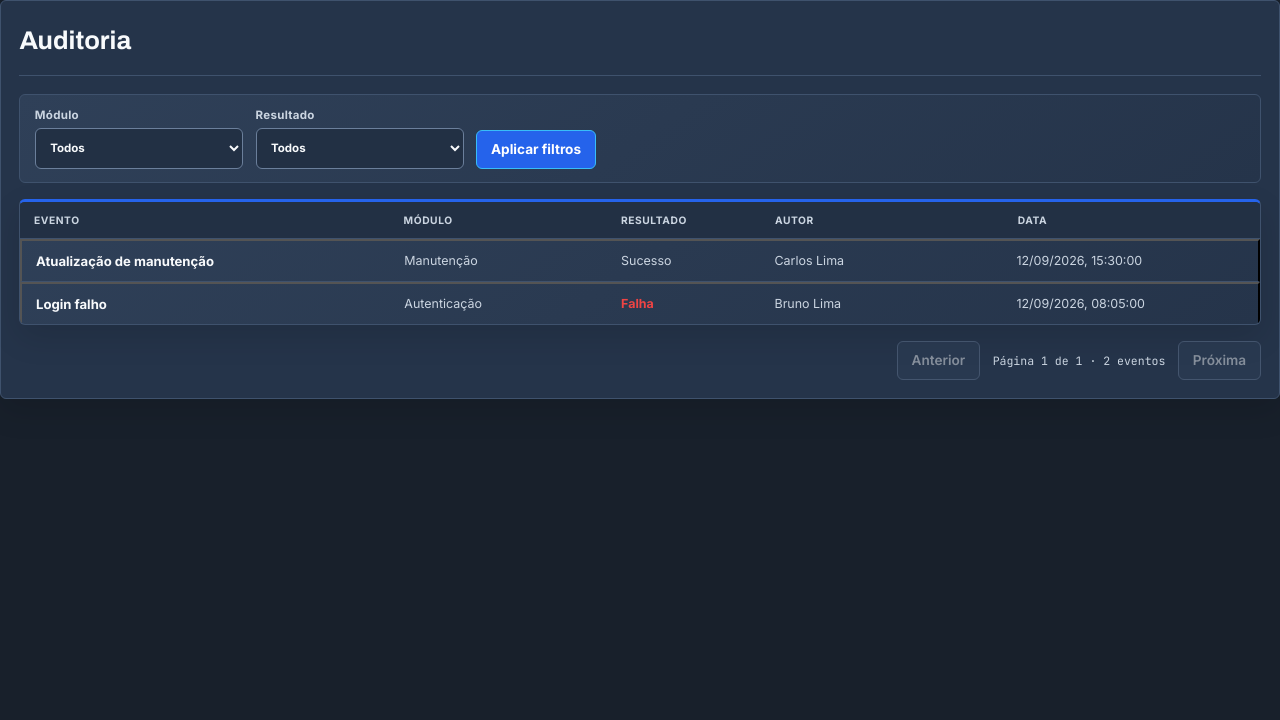
AuditPage › opens event details with before/after
This screenshot has width=1280, height=720.
Click the text "Atualização de manutenção". click: x=125, y=261
box: [36, 253, 214, 269]
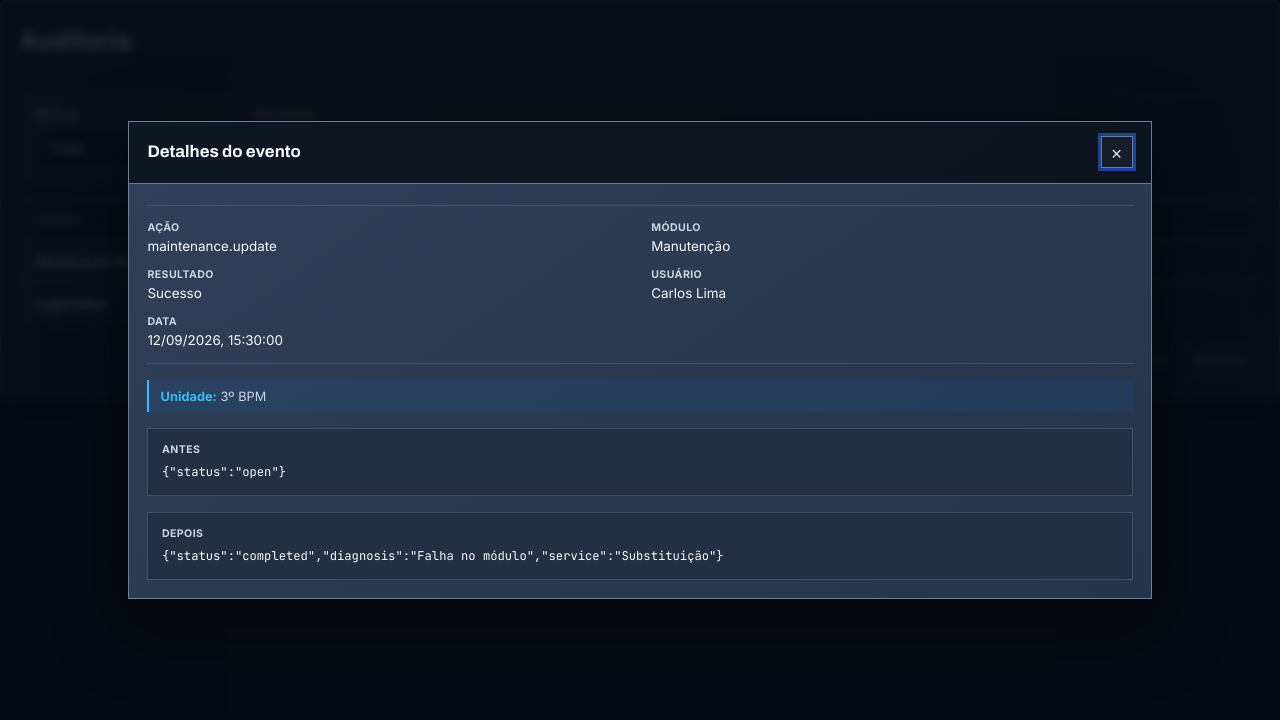
Expected: the text "Substituição" is shown, [162, 548, 724, 564]
